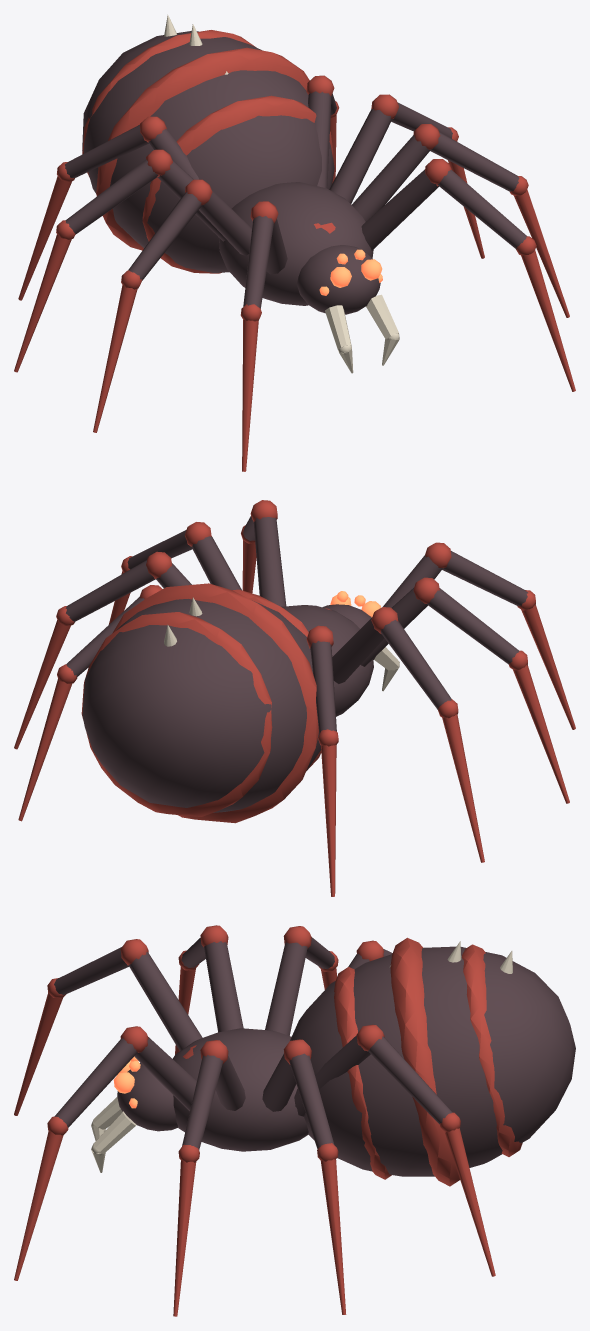
The model's file is Crawler.glb.
The picture shows the model from 3 angles, top to bottom: view 1: azimuth 30°, elevation 25°; view 2: azimuth 150°, elevation 25°; view 3: azimuth 270°, elevation 25°; orthographic projection. The views are drawn at different scales.
Parts seen in each view (by area): view 1: Crawler; view 2: Crawler; view 3: Crawler.
Part boxes in pixels (x1=…): Crawler: x1=14, y1=14, x2=575, y2=471; Crawler: x1=14, y1=500, x2=575, y2=896; Crawler: x1=14, y1=925, x2=575, y2=1316.
Bounding box in the file's own units: 1.1 × 0.5499 × 1.09.
